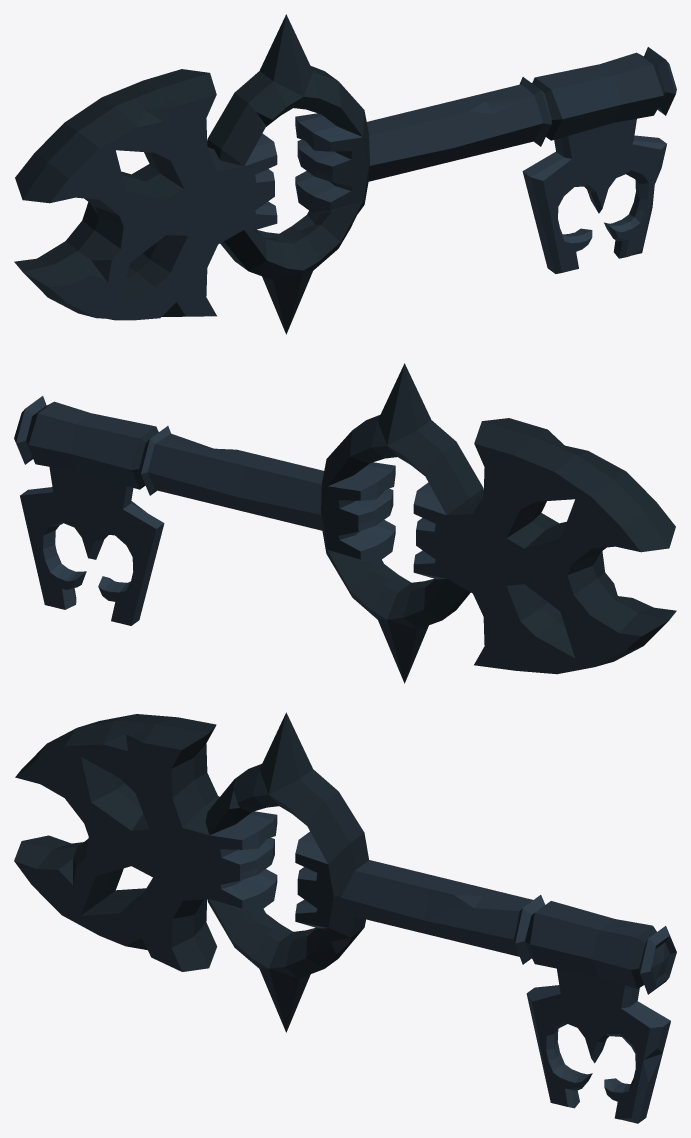
File: SM_Prop_Key_01.fbx
3 renders of one model, top to bottom at view 1: azimuth 30°, elevation 25°; view 2: azimuth 150°, elevation 25°; view 3: azimuth 330°, elevation 25°, orthographic.
Visible parts, largest first — view 1: SM_Prop_Key_01; view 2: SM_Prop_Key_01; view 3: SM_Prop_Key_01.
Boxes of the visible parts, box(x1,y1,x2,y2) form: SM_Prop_Key_01: box(14, 14, 676, 334); SM_Prop_Key_01: box(14, 363, 676, 683); SM_Prop_Key_01: box(14, 712, 676, 1123).
Bounding box in the file's own units: 47.62 × 22.92 × 4.67.
1 material, 1 textured.
